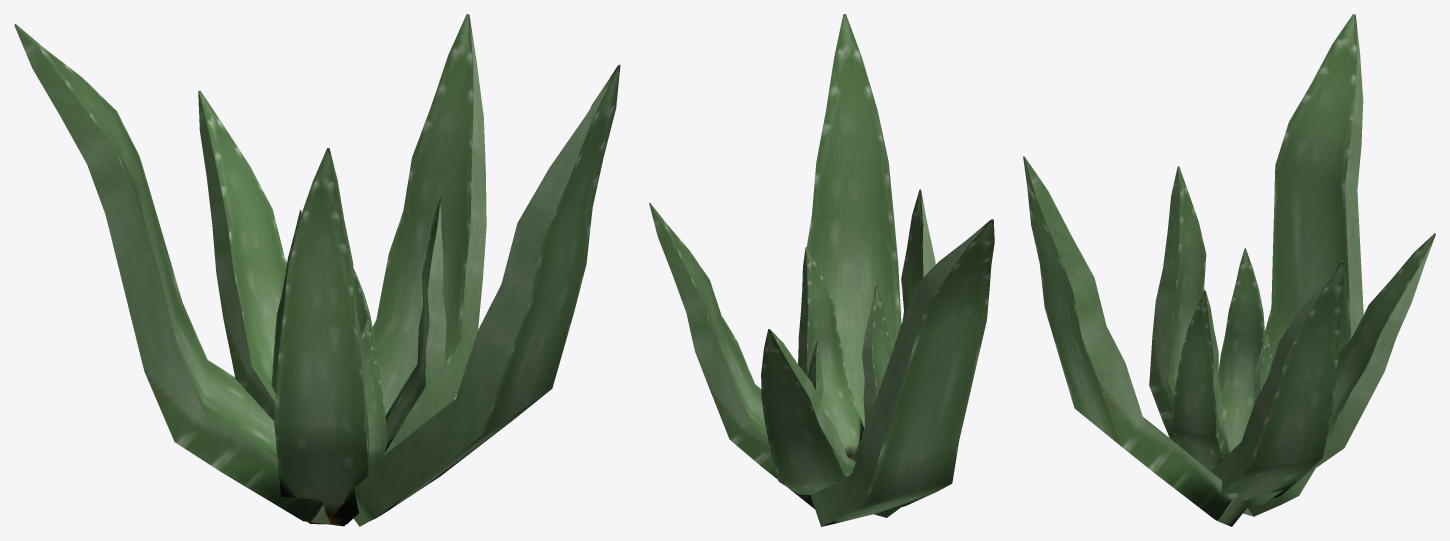
The model's file is aloervera.fbx.
3 renders of one model, left to right at view 1: azimuth 30°, elevation 25°; view 2: azimuth 150°, elevation 25°; view 3: azimuth 270°, elevation 25°, orthographic. The views are drawn at different scales.
Parts seen in each view (by area): view 1: pCube10; view 2: pCube10; view 3: pCube10.
Part boxes in pixels (<box>): pCube10: <box>14,14,620,526</box>; pCube10: <box>649,14,994,526</box>; pCube10: <box>1023,14,1435,526</box>.
Bounding box in the file's own units: 717 × 788 × 719.
1 material, 1 textured.
